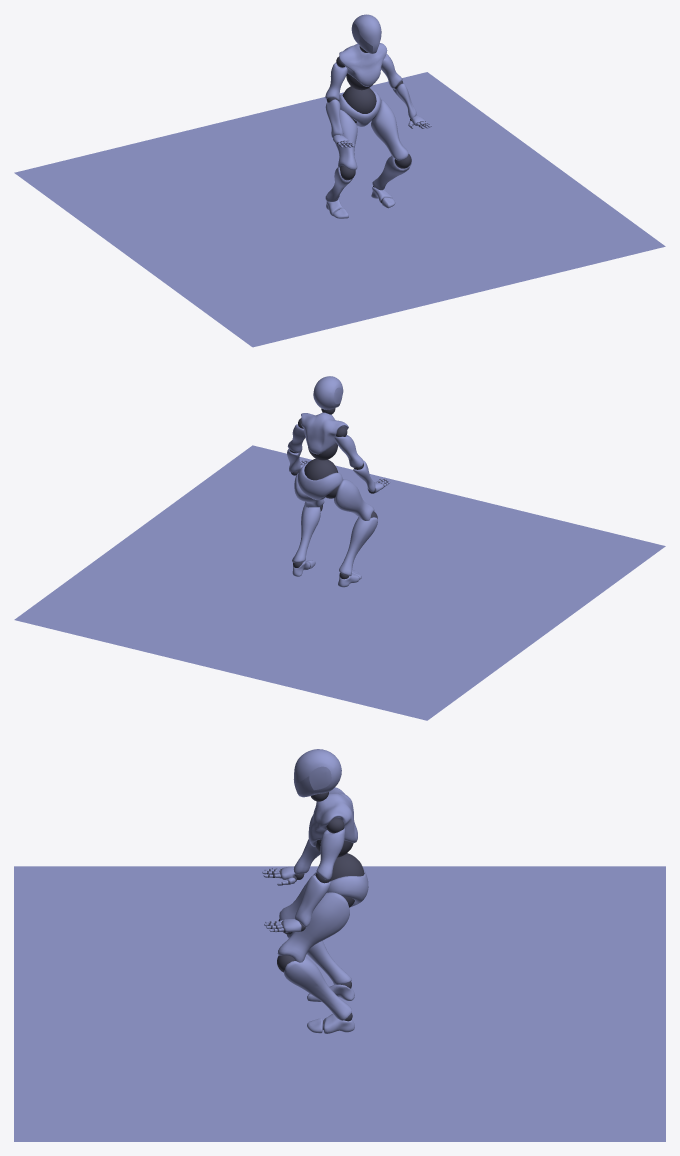
3 renders of one model, top to bottom at view 1: azimuth 30°, elevation 25°; view 2: azimuth 150°, elevation 25°; view 3: azimuth 270°, elevation 25°, orthographic. The views are drawn at different scales.
Parts seen in each view (by area): view 1: Beta_Joints.001; view 2: Beta_Joints.001; view 3: Beta_Joints.001.
Part boxes in pixels (<box>): Beta_Joints.001: <box>14,14,665,347</box>; Beta_Joints.001: <box>14,376,665,720</box>; Beta_Joints.001: <box>14,749,665,1141</box>.
Bounding box in the file's own units: 3.41 × 1.54 × 3.41.
